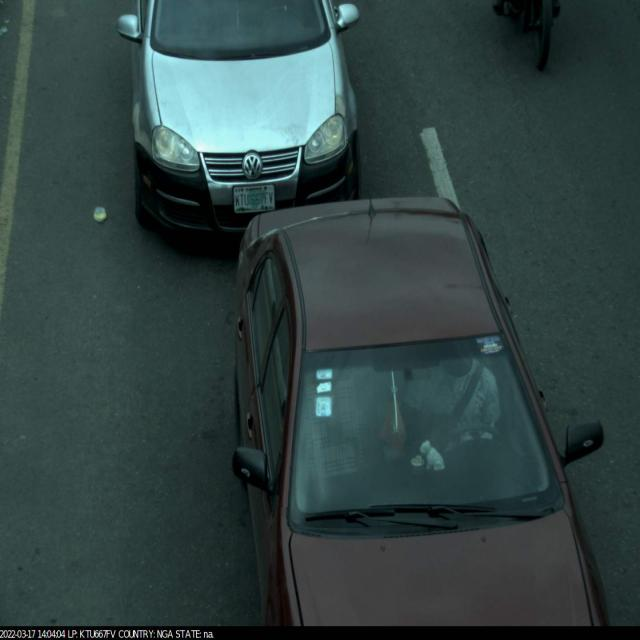windshield: (279, 332, 575, 554)
